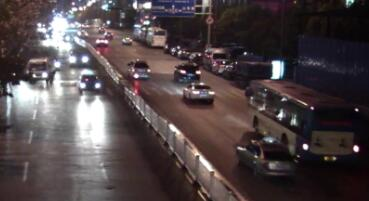bus: (243, 75, 362, 167), (145, 23, 170, 49)
car: (231, 133, 296, 179), (180, 80, 218, 106), (24, 56, 56, 83), (75, 70, 104, 98), (172, 61, 203, 84), (124, 57, 153, 81), (66, 47, 93, 68), (205, 47, 226, 70), (211, 57, 234, 76), (119, 32, 137, 47), (94, 34, 110, 47)
